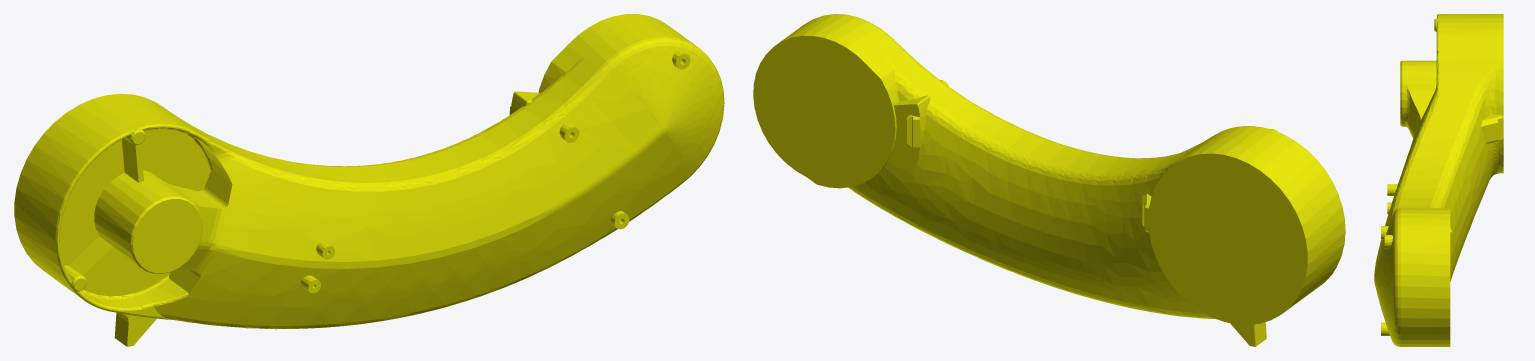
3 views of the same model, side by side, from view 1: azimuth 30°, elevation 25°; view 2: azimuth 150°, elevation 25°; view 3: azimuth 270°, elevation 25° (orthographic). The views are drawn at different scales.
Visible parts, largest first — view 1: node; view 2: node; view 3: node.
Boxes of the visible parts, x1,y1,x2,y2 form: node: (14,14,724,346); node: (753,14,1345,346); node: (1374,14,1503,346).
Bounding box in the file's own units: 1202 × 413 × 301.
